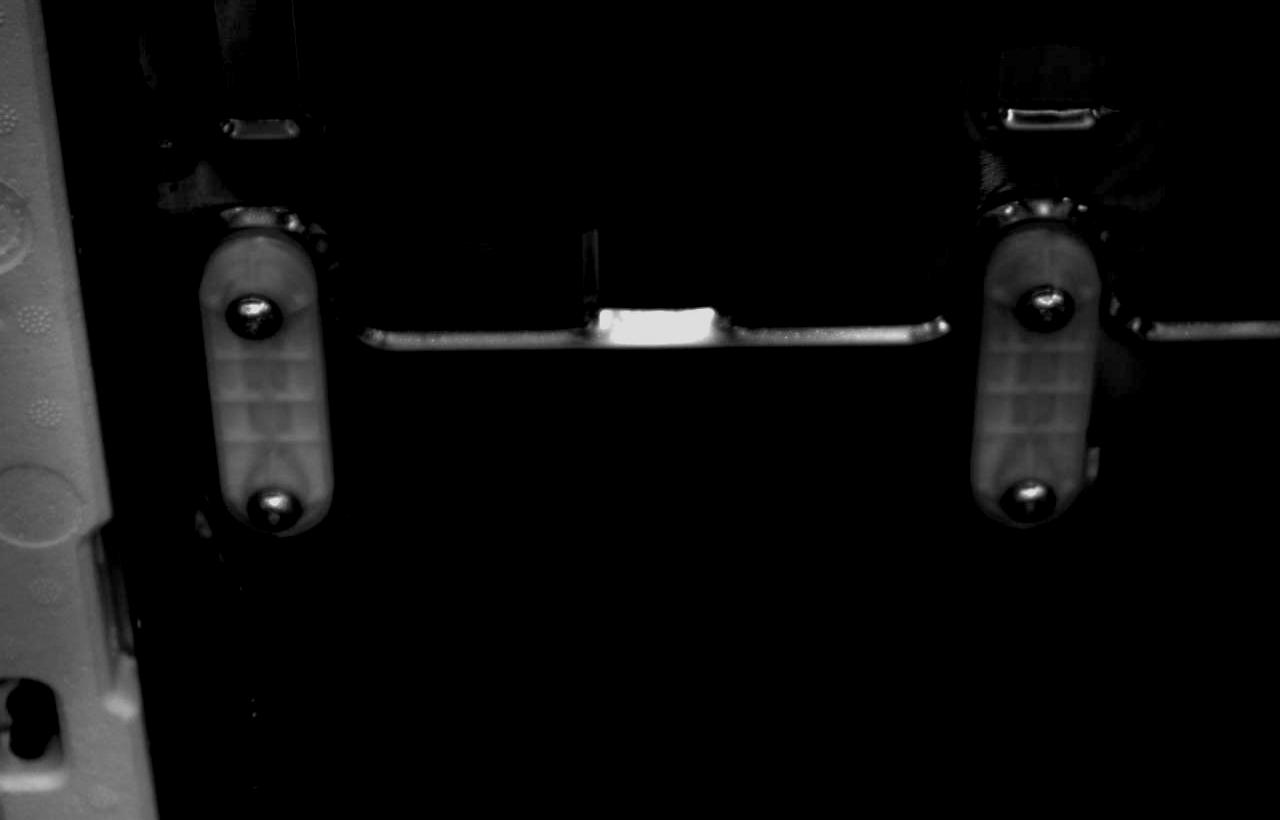vida-ok: (217, 281, 289, 348), (1010, 275, 1077, 342), (996, 464, 1061, 532), (241, 478, 307, 537)
